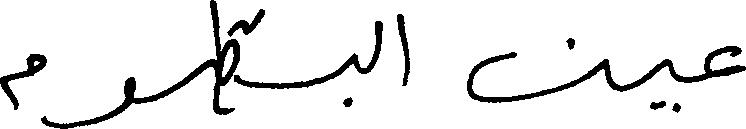X: (467, 33, 604, 107), (207, 0, 239, 119), (0, 49, 47, 128), (78, 72, 136, 128), (706, 41, 745, 83), (397, 9, 410, 90), (661, 54, 673, 115), (347, 48, 358, 111), (373, 16, 381, 72)
